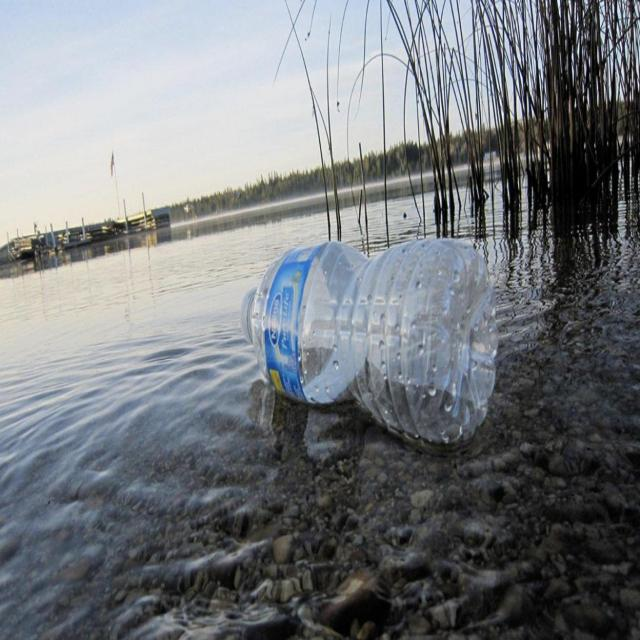plastic_bottle: (233, 212, 502, 478)
